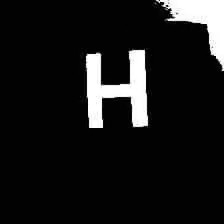LTR_H: (75, 42, 157, 133)
